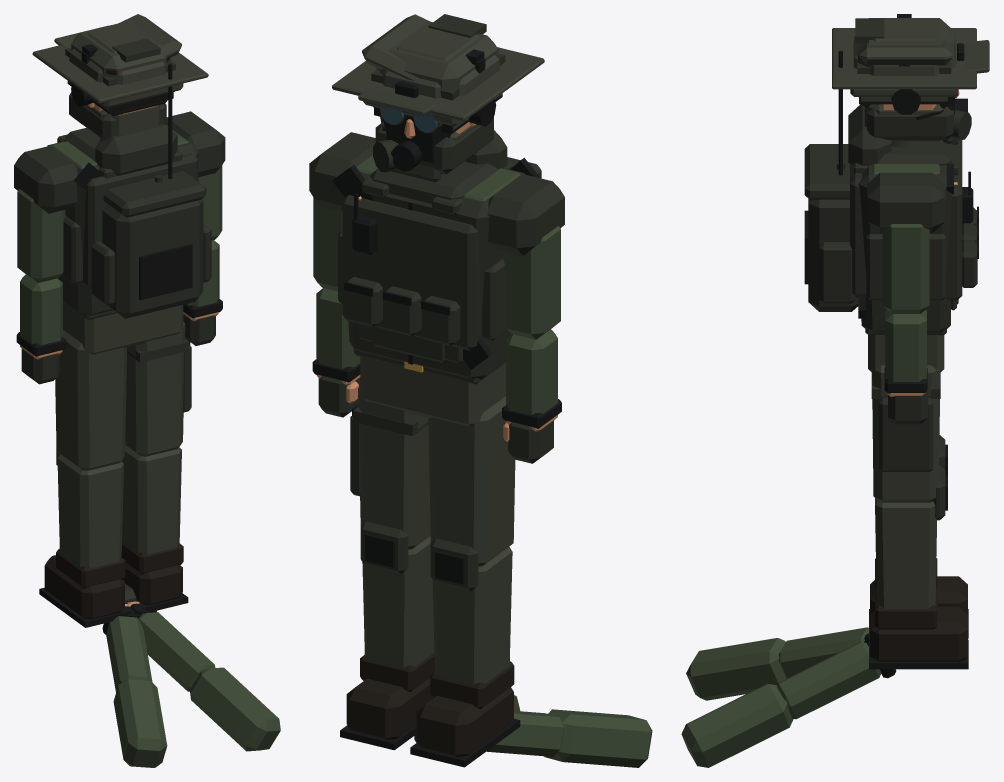
File: operator.glb
3 views of the same model, side by side, from view 1: azimuth 30°, elevation 25°; view 2: azimuth 150°, elevation 25°; view 3: azimuth 270°, elevation 25° (orthographic). The views are drawn at different scales.
Visible parts, largest first — view 1: leg_L, leg_R, back_pack, vest_jacket, vm_arm_R, vm_arm_L, hat_boonie, vest_plate, pelvis, arm_L, vest_hoodie, forearm_L (+14 smaller); view 2: leg_L, leg_R, vest_plate, vest_jacket, vm_arm_L, pelvis, hat_boonie, arm_L, forearm_L, face_gasmask, hat_helmet, forearm_R (+14 smaller); view 3: leg_R, vm_arm_R, vest_jacket, back_pack, vest_plate, vm_arm_L, hat_boonie, arm_R, thigh_rig, forearm_R, hat_helmet, face_bandana (+13 smaller).
Part boxes in pixels (x1,y1,x2,y2): leg_L: (39, 330, 130, 627); leg_R: (121, 322, 188, 612); back_pack: (91, 171, 211, 318); vest_jacket: (14, 111, 225, 316); vm_arm_R: (127, 601, 280, 751); vm_arm_L: (106, 604, 167, 767); hat_boonie: (32, 21, 208, 103); vest_plate: (57, 134, 198, 288); pelvis: (63, 301, 183, 354); arm_L: (17, 189, 65, 282); vest_hoodie: (95, 124, 177, 175); forearm_L: (20, 274, 62, 359); leg_L: (410, 396, 520, 767); leg_R: (340, 387, 434, 750); vest_plate: (338, 161, 512, 350); vest_jacket: (309, 132, 564, 379); vm_arm_L: (486, 709, 652, 767); pelvis: (354, 349, 505, 426); hat_boonie: (332, 21, 544, 121); arm_L: (503, 226, 560, 339); forearm_L: (503, 329, 557, 441); face_gasmask: (373, 93, 502, 172); hat_helmet: (363, 14, 500, 126); forearm_R: (316, 288, 360, 403); leg_R: (869, 365, 968, 669); vm_arm_R: (681, 642, 895, 767); vest_jacket: (858, 140, 956, 333); back_pack: (804, 144, 858, 311); vest_plate: (850, 138, 978, 300); vm_arm_L: (686, 627, 868, 700); hat_boonie: (832, 18, 976, 89); arm_R: (882, 224, 929, 313); thigh_rig: (871, 372, 940, 471); forearm_R: (885, 310, 926, 396); hat_helmet: (850, 18, 964, 96); face_bandana: (867, 106, 953, 143).
Bounding box in the file's own units: 0.66 × 2.18 × 0.8499.
